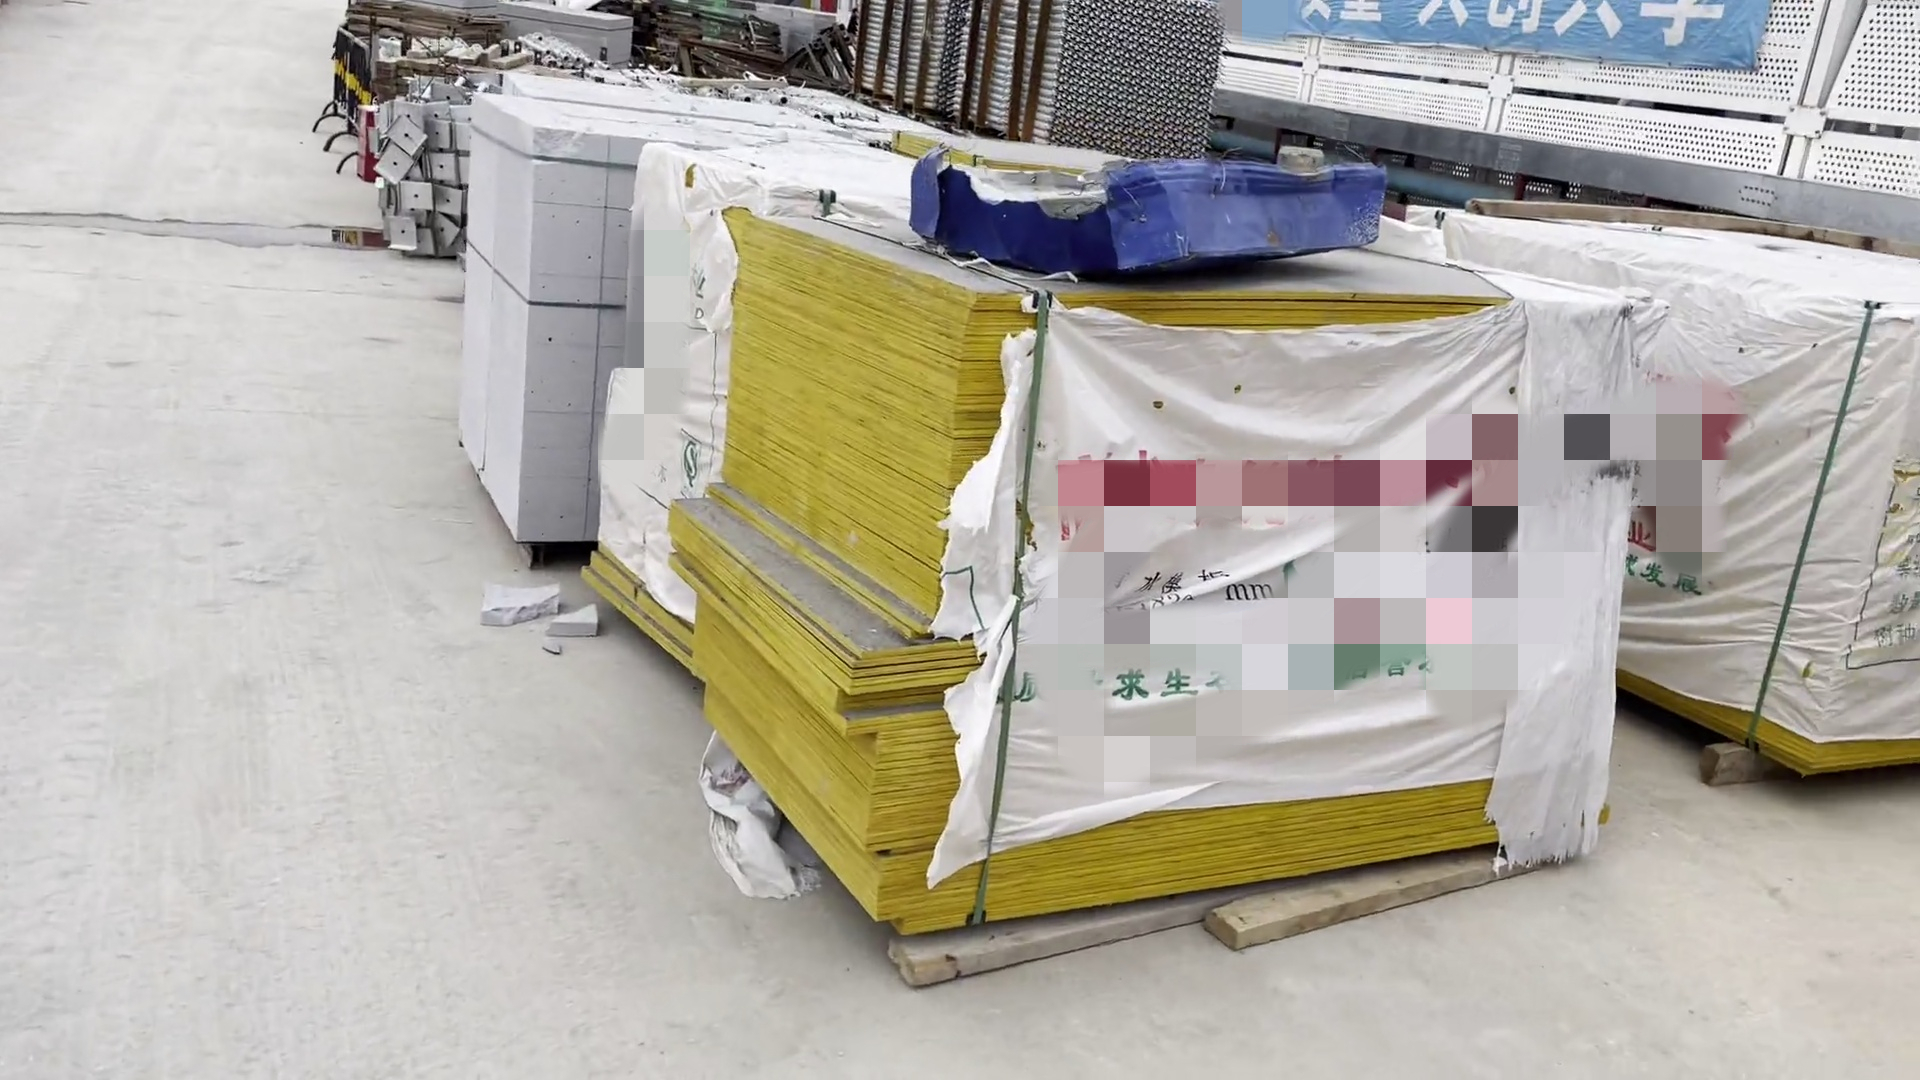board: (626, 189, 1647, 926)
brick: (415, 75, 699, 568)
scaffold: (843, 1, 1211, 171)
slogan: (1338, 1, 1722, 55)
